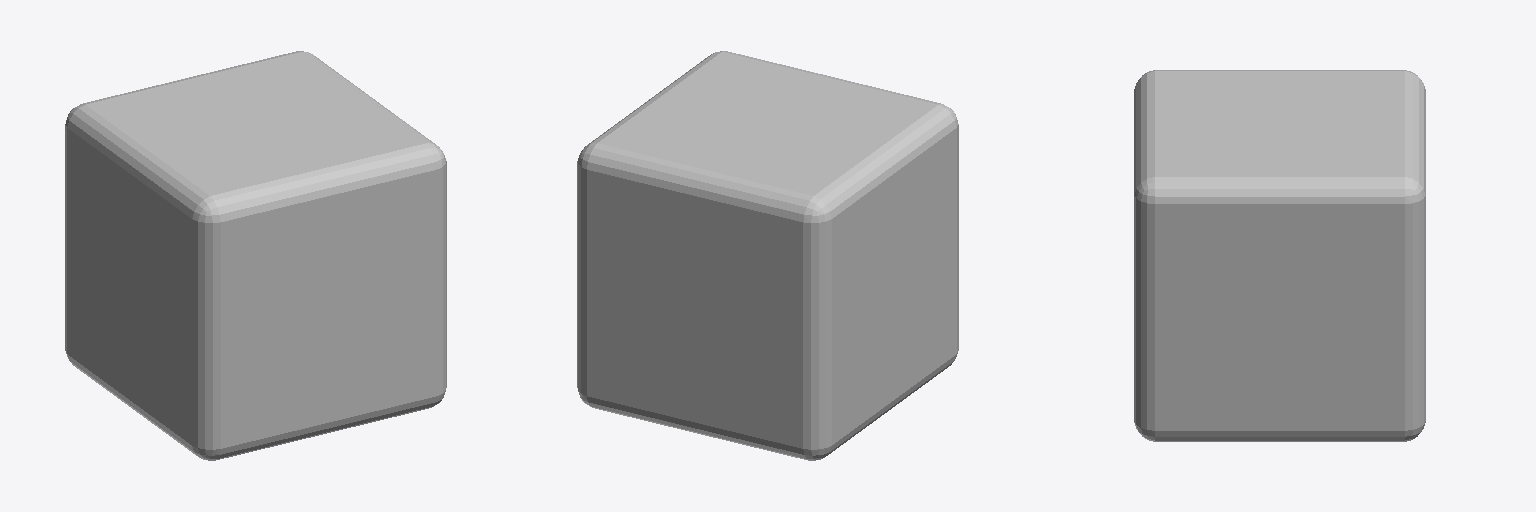
File: kostka.obj
3 renders of one model, left to right at view 1: azimuth 30°, elevation 25°; view 2: azimuth 150°, elevation 25°; view 3: azimuth 270°, elevation 25°, orthographic.
Parts seen in each view (by area): view 1: better?; view 2: better?; view 3: better?.
Part boxes in pixels (x1,y1,x2,y2): better?: (65, 51, 446, 460); better?: (577, 51, 958, 460); better?: (1134, 70, 1425, 441).
Size of the model in its own units: 2 by 2 by 2.